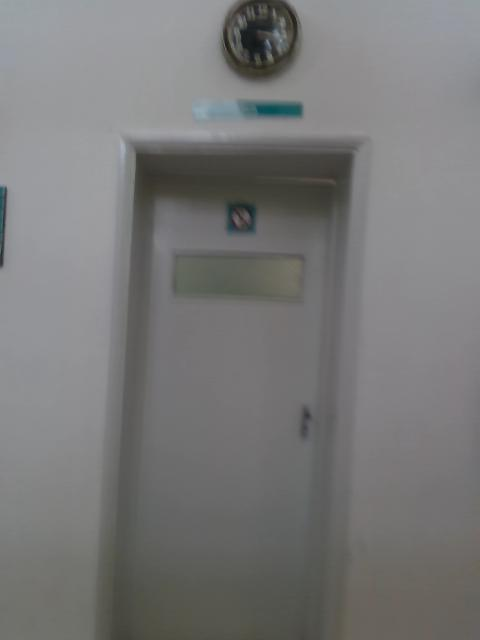door: (117, 177, 332, 640)
